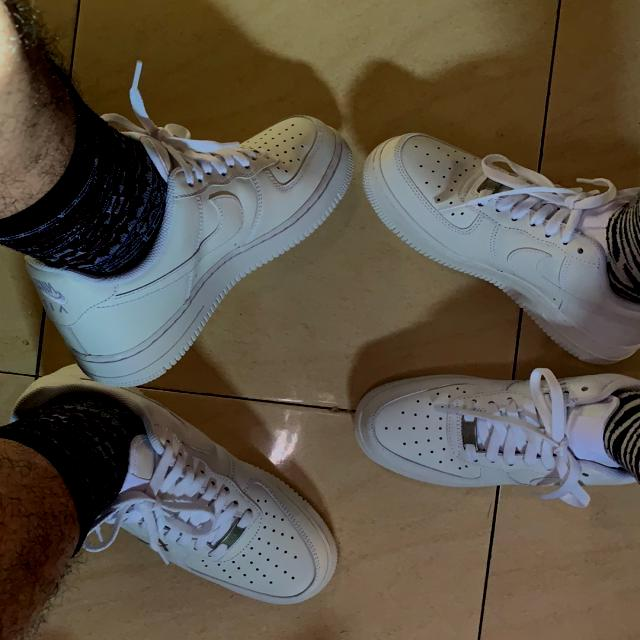nike_original_airforce: (5, 108, 368, 392), (12, 384, 338, 604), (354, 132, 635, 371), (350, 370, 638, 494)
